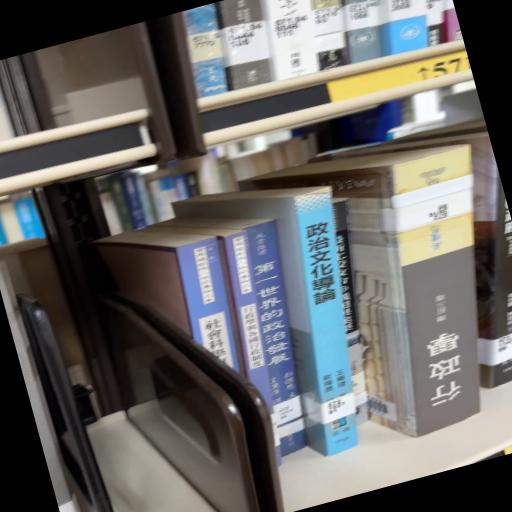reverse: (241, 145, 480, 437)
